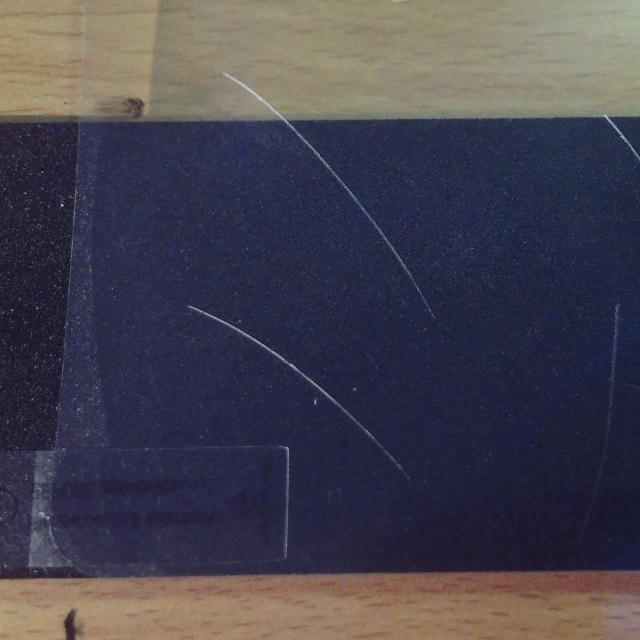defect: (216, 65, 441, 321), (186, 301, 418, 489), (584, 303, 620, 534), (599, 116, 640, 167)
